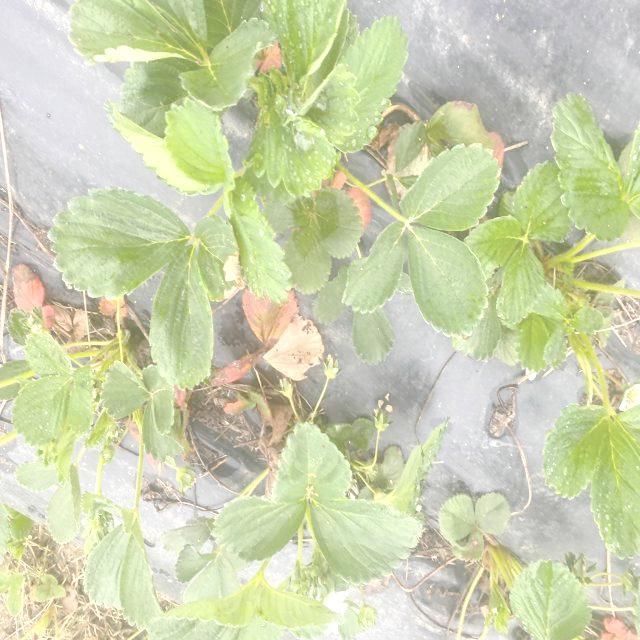flower: (316, 580, 362, 634)
